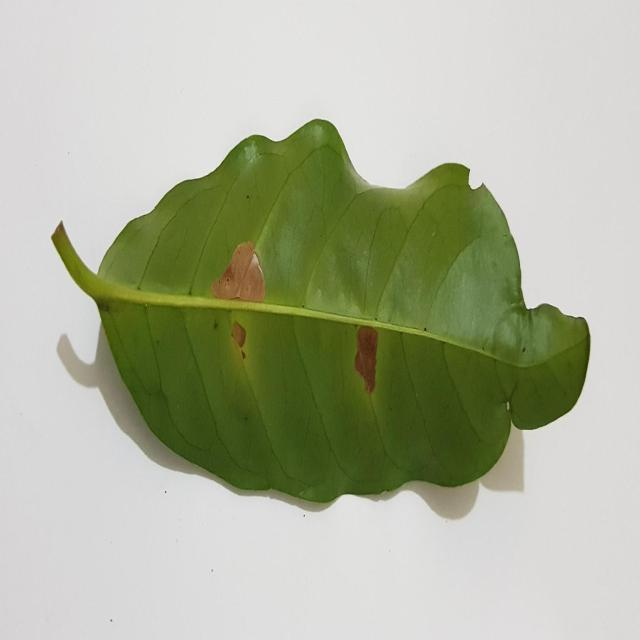miner: (211, 241, 266, 302), (355, 325, 378, 398), (230, 320, 247, 361)
